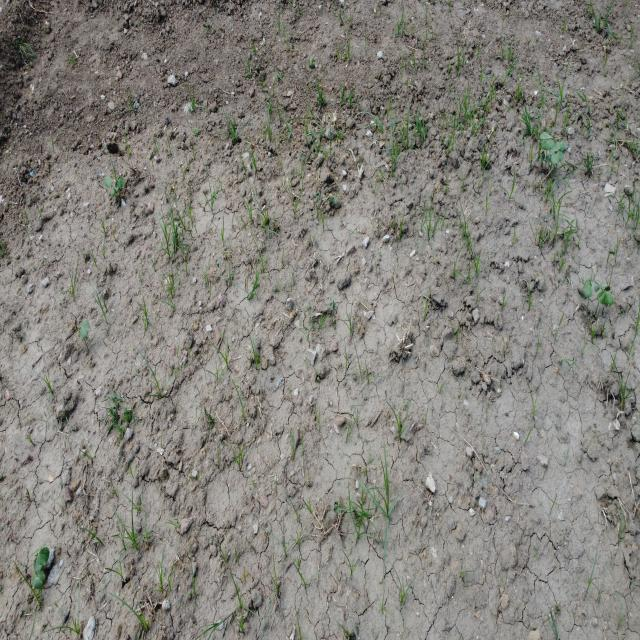seedling_s3: (33, 547, 49, 575), (597, 290, 613, 305), (80, 321, 90, 339), (583, 279, 592, 298), (32, 574, 42, 589), (549, 141, 561, 153), (551, 152, 563, 164), (37, 565, 45, 580), (542, 139, 554, 149), (598, 281, 611, 290), (104, 173, 111, 188), (111, 185, 119, 198), (540, 131, 553, 139), (118, 176, 125, 190), (590, 281, 598, 292), (560, 140, 567, 152)
